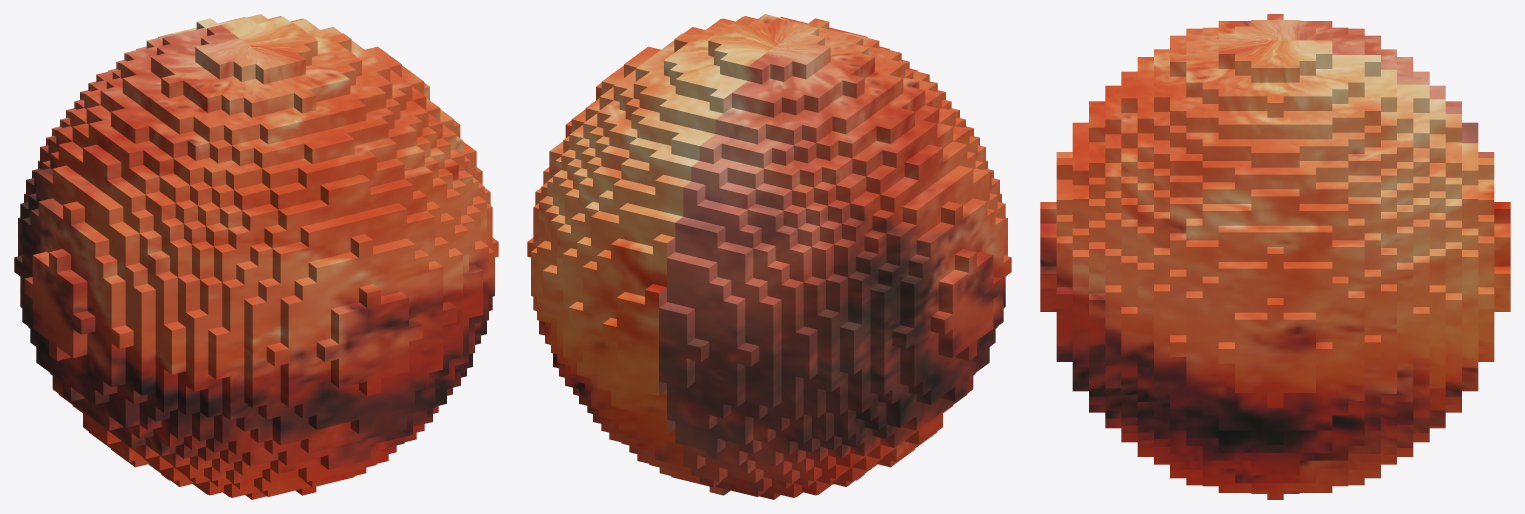
File: 04_Mars.fbx
The picture shows the model from 3 angles, left to right: view 1: azimuth 30°, elevation 25°; view 2: azimuth 150°, elevation 25°; view 3: azimuth 270°, elevation 25°; orthographic projection.
Visible parts, largest first — view 1: 04_Mars; view 2: 04_Mars; view 3: 04_Mars.
Boxes of the visible parts, x1,y1,x2,y2 form: 04_Mars: [14, 14, 498, 499]; 04_Mars: [527, 14, 1011, 499]; 04_Mars: [1040, 14, 1510, 499].
Size of the model in its own units: 121 by 121 by 121.
Materials: 1 (1 with a texture image).
